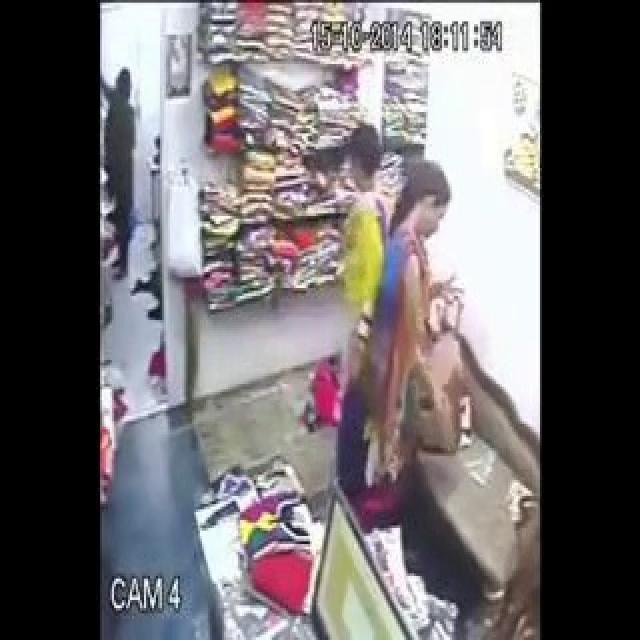Shoplifting: (373, 161, 483, 508)
